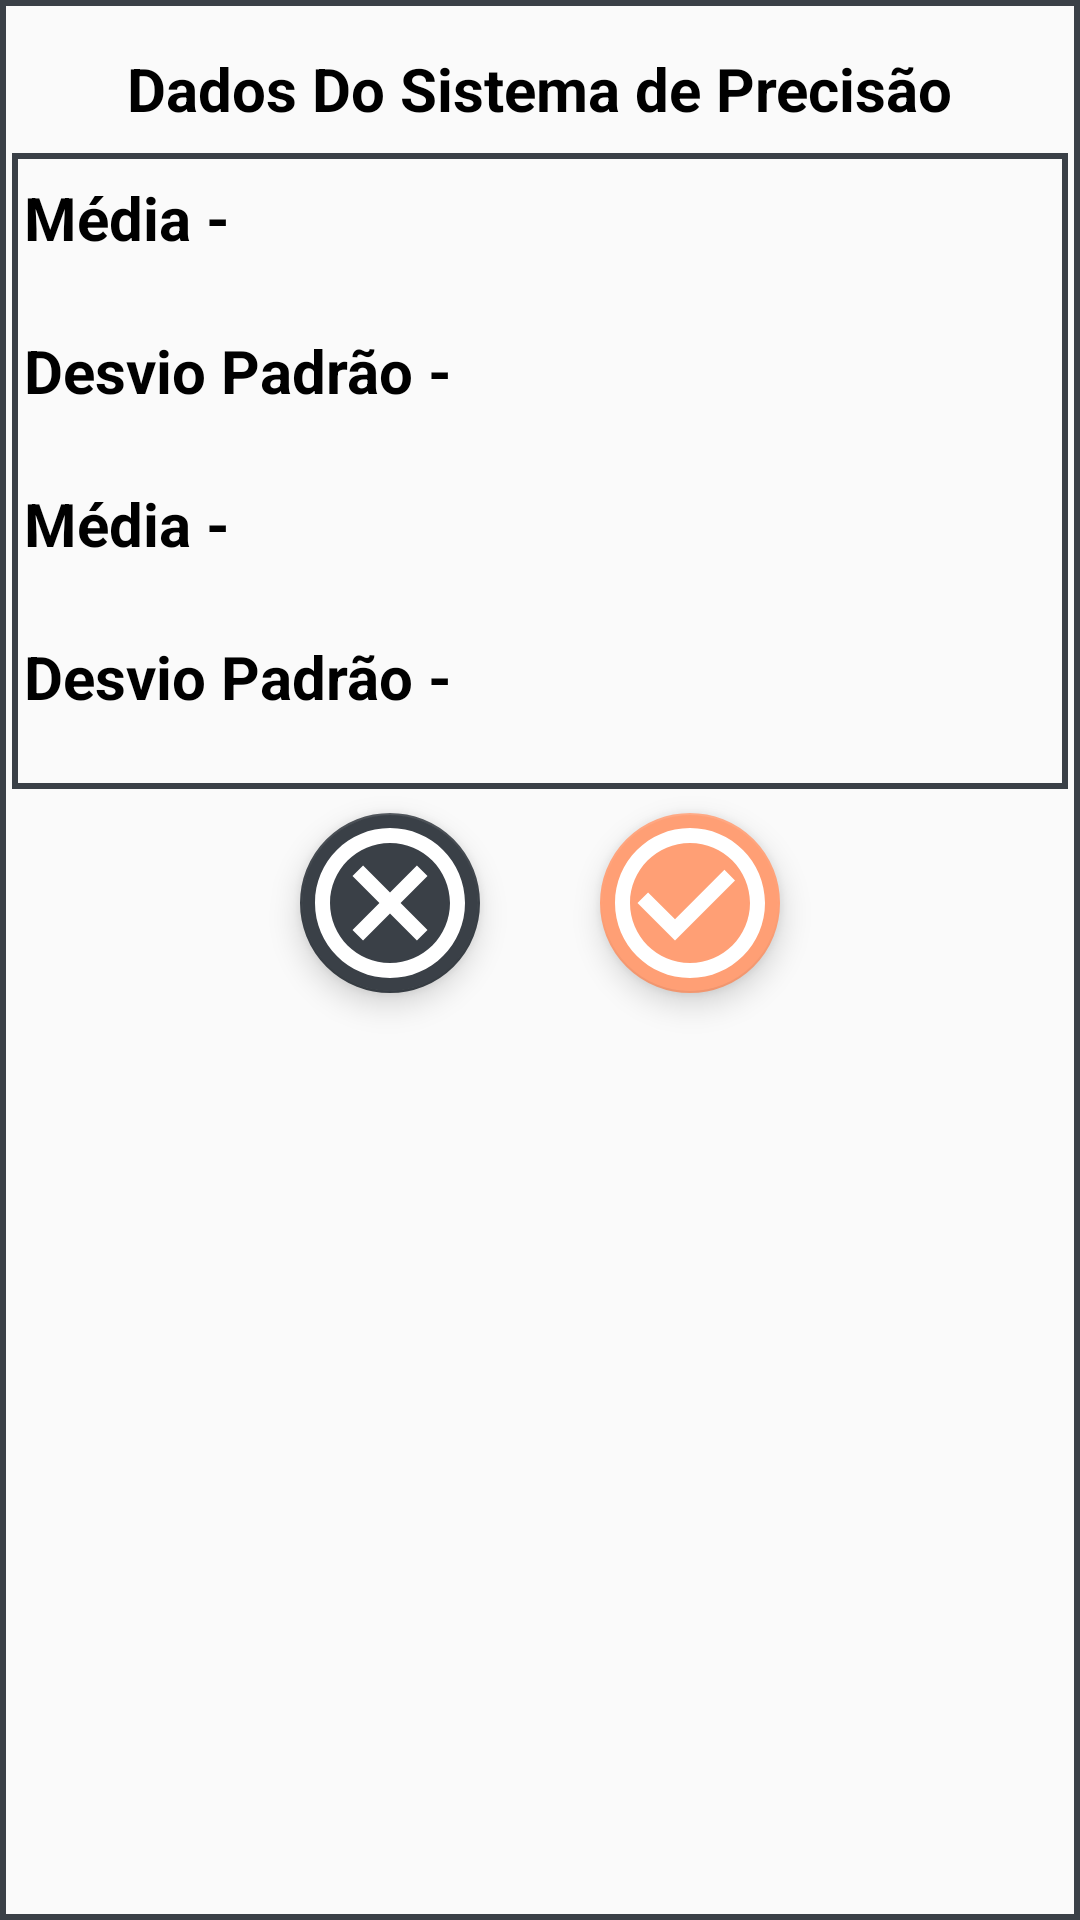

Locate icon controls on the screen. Image size 1080x1920, boxes as [left=x1, top=y1, right=x2, bottom=y2].
botao cancelar registros: [left=330, top=843, right=450, bottom=963]
botao finalizar registro: [left=630, top=843, right=750, bottom=963]
